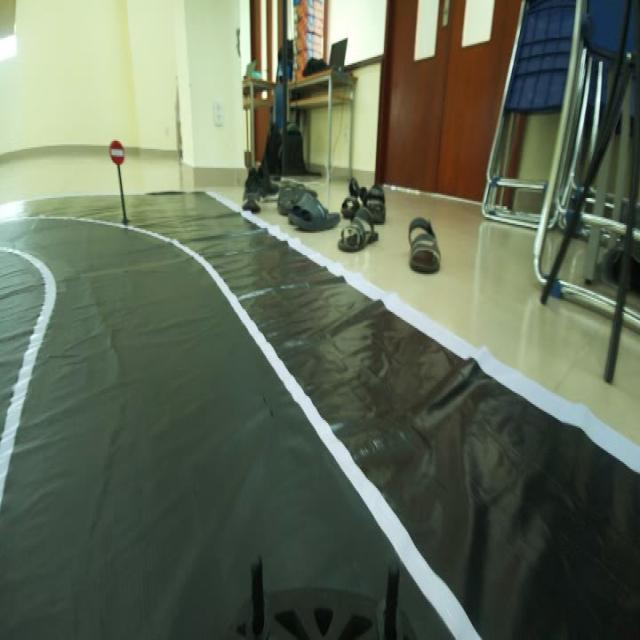no_entry: (102, 134, 129, 172)
